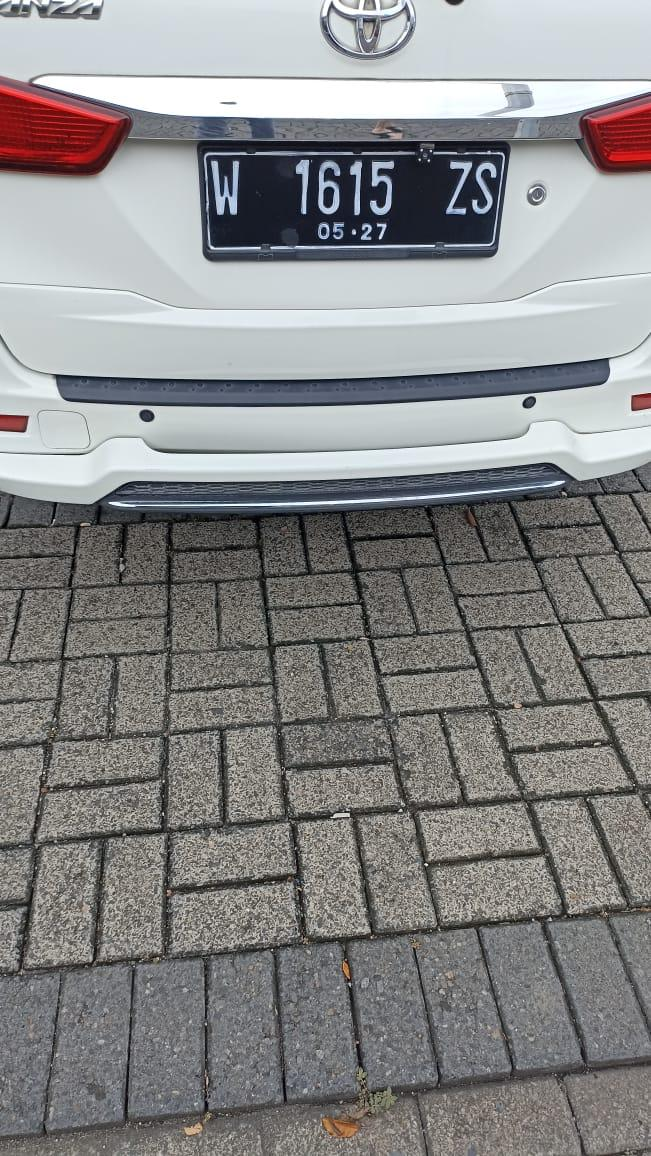plat: (202, 144, 508, 260)
